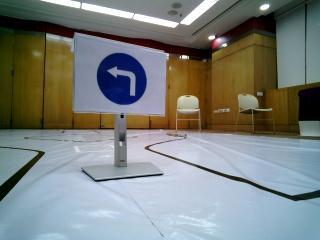left: (75, 35, 165, 115)
